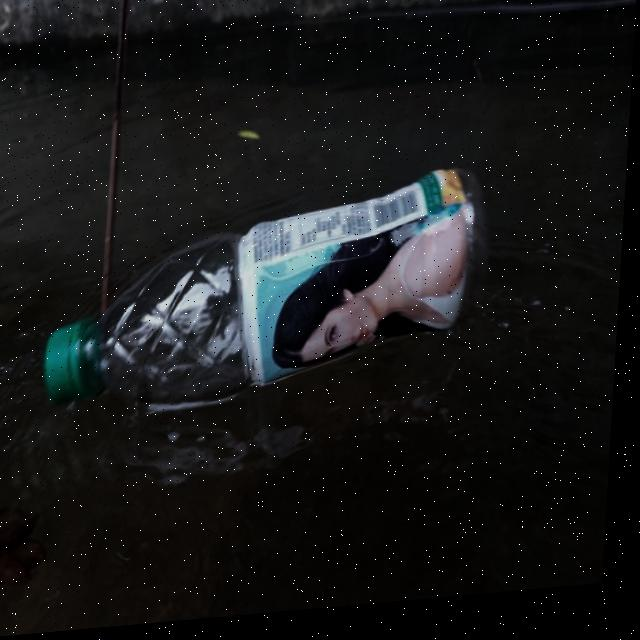leaf: (0, 479, 64, 608)
waterbottle: (21, 154, 517, 426)
